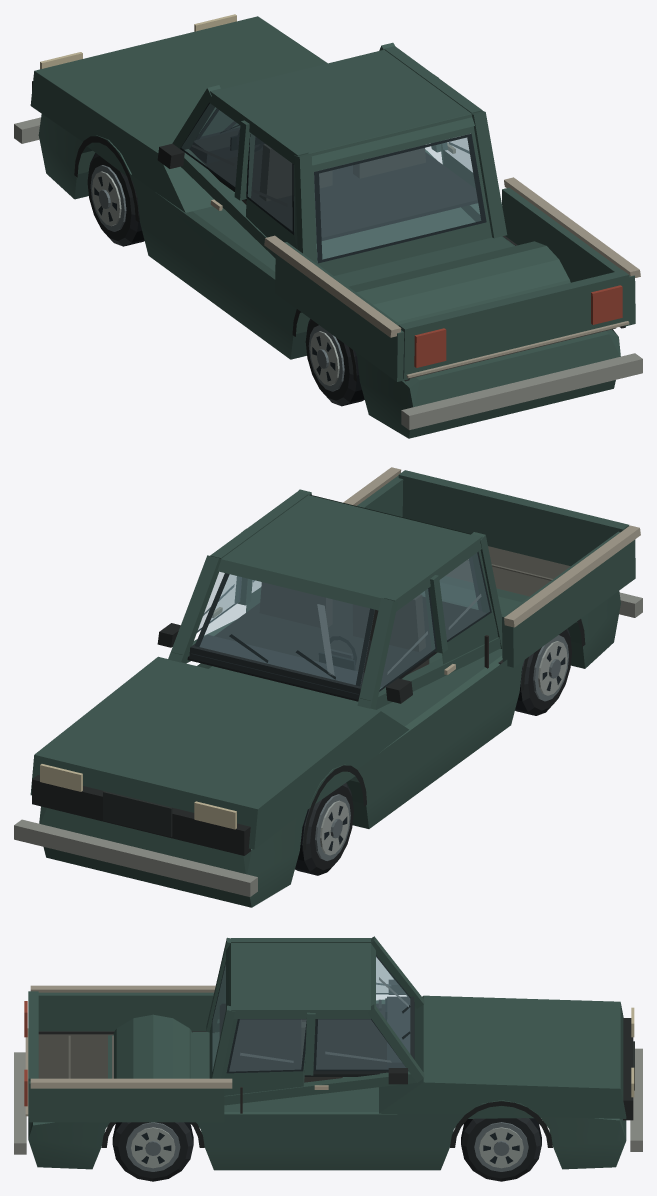
File: pickup_vert_pin.glb
3 renders of one model, top to bottom at view 1: azimuth 30°, elevation 25°; view 2: azimuth 150°, elevation 25°; view 3: azimuth 270°, elevation 25°, orthographic. The views are drawn at different scales.
Visible parts, largest first — view 1: proposition_pickup_vert_pin; view 2: proposition_pickup_vert_pin; view 3: proposition_pickup_vert_pin.
Part boxes in pixels (x1,y1,x2,y2): proposition_pickup_vert_pin: [14, 14, 642, 438]; proposition_pickup_vert_pin: [14, 467, 642, 907]; proposition_pickup_vert_pin: [14, 936, 642, 1181].
Bounding box in the file's own units: 2.01 × 1.61 × 5.49.
